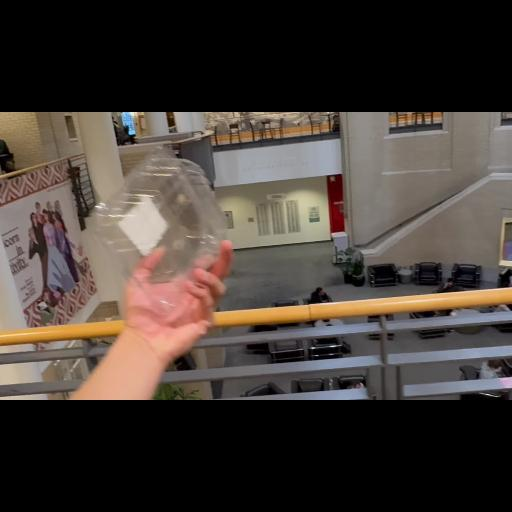small_plastic_container: (87, 146, 227, 318)
